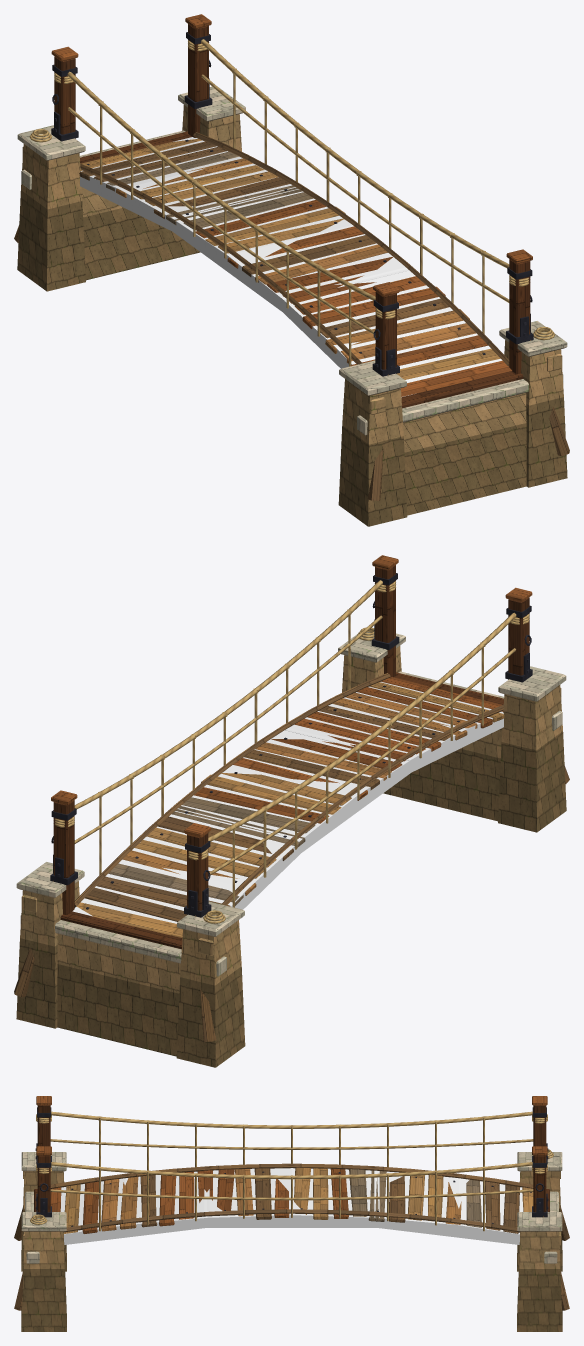
Rendered from timber_bridge.glb.
The picture shows the model from 3 angles, top to bottom: view 1: azimuth 30°, elevation 25°; view 2: azimuth 150°, elevation 25°; view 3: azimuth 270°, elevation 25°; orthographic projection. The views are drawn at different scales.
Parts seen in each view (by area): view 1: TimberBridge, col_bridge_deck_1, col_bridge_deck_2, col_bridge_deck_0; view 2: TimberBridge, col_bridge_deck_1, col_bridge_deck_0, col_bridge_deck_2; view 3: TimberBridge, col_bridge_deck_1, col_bridge_deck_0, col_bridge_deck_2.
Part boxes in pixels (box(x1,y1,x2,y2)): TimberBridge: box(14, 14, 569, 526); col_bridge_deck_1: box(171, 187, 409, 313); col_bridge_deck_2: box(281, 267, 502, 397); col_bridge_deck_0: box(80, 137, 298, 231); TimberBridge: box(14, 555, 569, 1067); col_bridge_deck_1: box(175, 728, 412, 854); col_bridge_deck_0: box(72, 808, 302, 923); col_bridge_deck_2: box(285, 681, 503, 772); TimberBridge: box(14, 1096, 569, 1331); col_bridge_deck_1: box(204, 1168, 379, 1227); col_bridge_deck_0: box(374, 1170, 523, 1244); col_bridge_deck_2: box(60, 1171, 209, 1244).
Bounding box in the file's own units: 3.9 × 4.11 × 12.16.
Materials: 5 (4 with a texture image).
